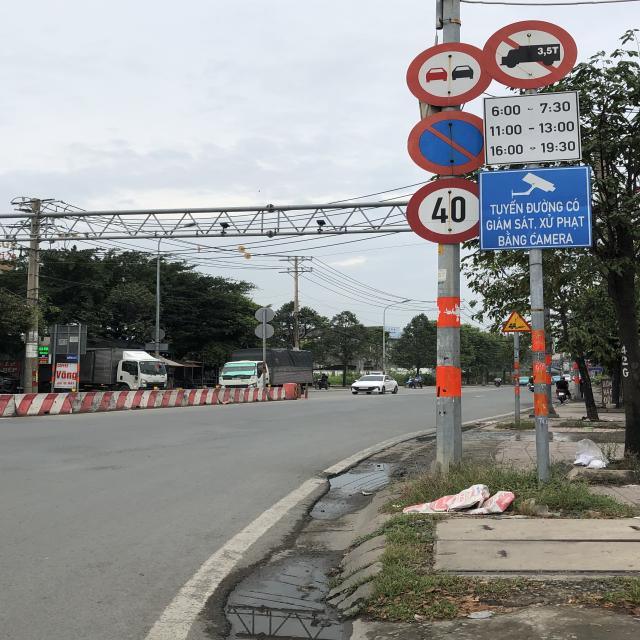Bien bao cam vuot: (404, 39, 496, 109)
